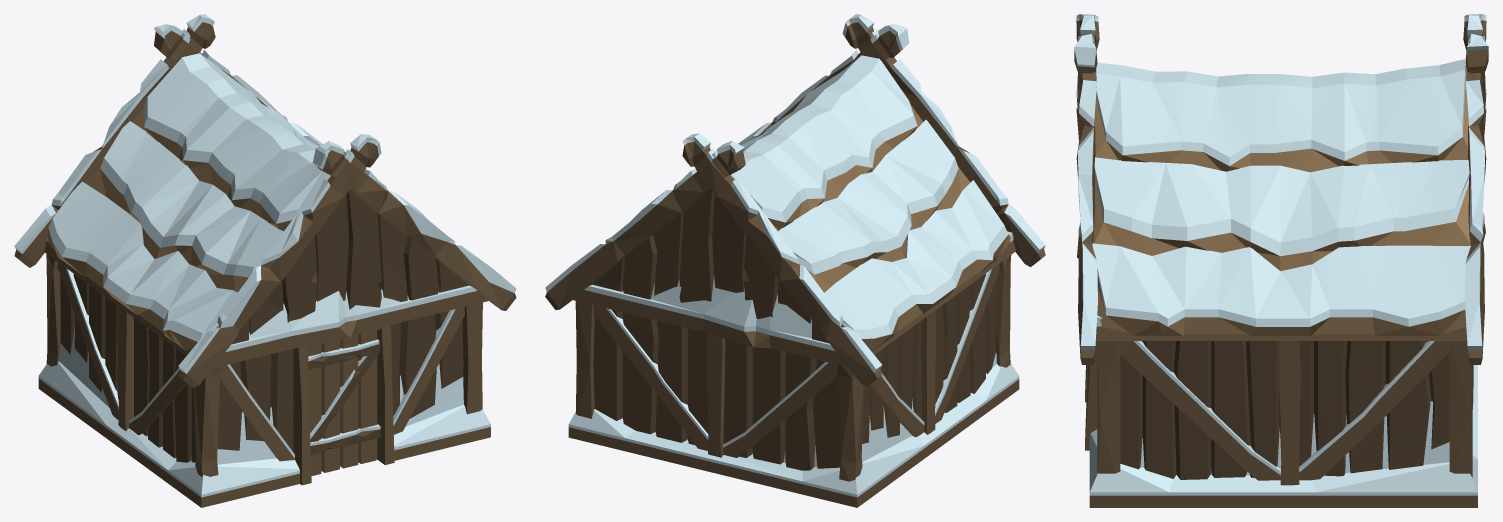
File: Casa02.glb
The picture shows the model from 3 angles, left to right: view 1: azimuth 30°, elevation 25°; view 2: azimuth 150°, elevation 25°; view 3: azimuth 270°, elevation 25°; orthographic projection. The views are drawn at different scales.
Parts seen in each view (by area): view 1: SM_Bld_Roof_01_Snow, SM_Bld_Base_Door_02_Snow; view 2: SM_Bld_Roof_01_Snow, SM_Bld_Base_Door_02_Snow; view 3: SM_Bld_Roof_01_Snow, SM_Bld_Base_Door_02_Snow.
Boxes of the visible parts, x1,y1,x2,y2 form: SM_Bld_Roof_01_Snow: (14,14,516,387); SM_Bld_Base_Door_02_Snow: (38,237,490,507); SM_Bld_Roof_01_Snow: (545,14,1045,386); SM_Bld_Base_Door_02_Snow: (568,236,1019,507); SM_Bld_Roof_01_Snow: (1074,14,1488,364); SM_Bld_Base_Door_02_Snow: (1085,321,1477,507).
Bounding box in the file's own units: 5.28 × 5.05 × 4.75.
Materials: 2 (2 with a texture image).
